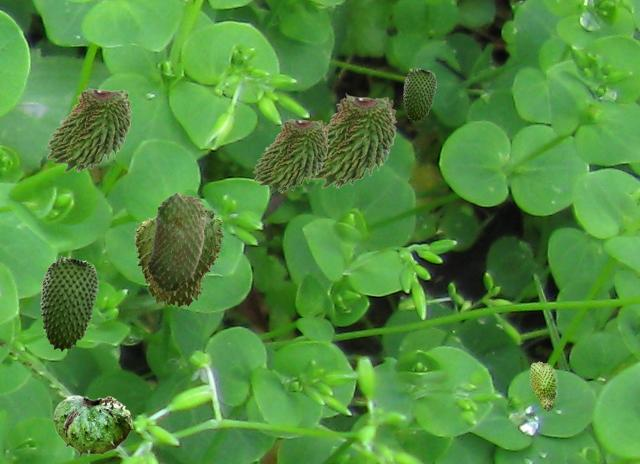guyabano: (134, 208, 225, 309), (310, 92, 396, 187), (45, 85, 131, 171), (147, 192, 206, 292), (252, 116, 328, 192), (40, 256, 97, 351), (52, 395, 132, 457), (403, 68, 435, 121), (529, 361, 557, 410)
